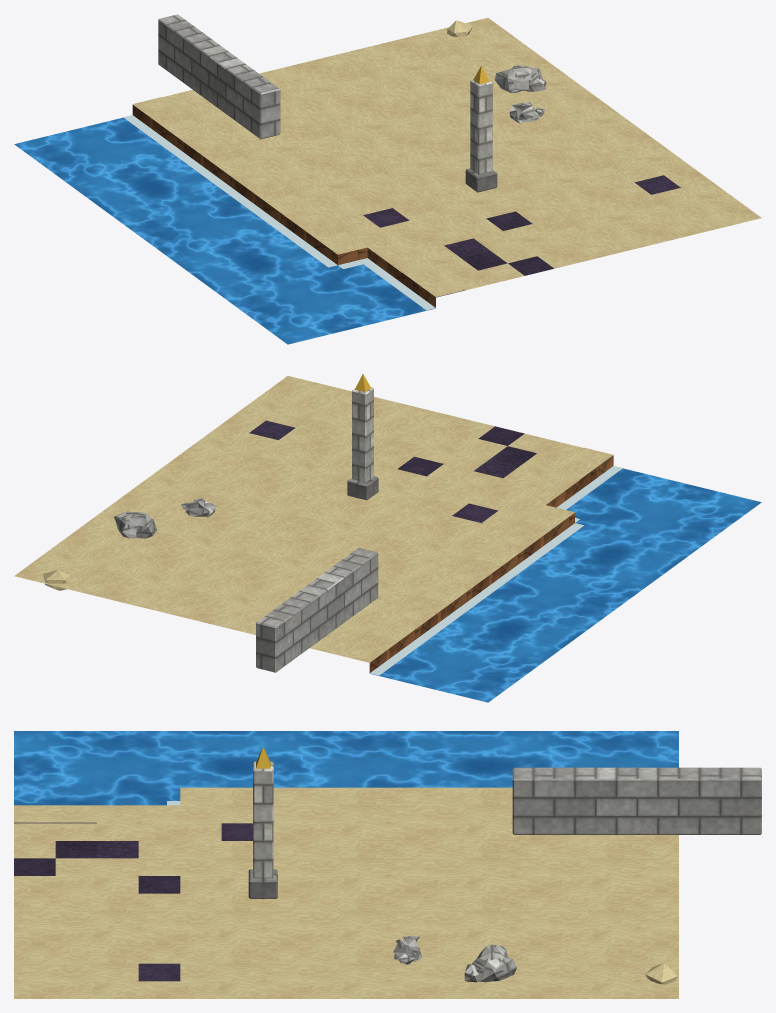
File: chunk_4_21.glb
3 renders of one model, top to bottom at view 1: azimuth 30°, elevation 25°; view 2: azimuth 150°, elevation 25°; view 3: azimuth 270°, elevation 25°, orthographic. The views are drawn at different scales.
Visible parts, largest first — view 1: chunk_4_21; view 2: chunk_4_21; view 3: chunk_4_21.
Part boxes in pixels (x1=…): chunk_4_21: x1=14, y1=14, x2=761, y2=344; chunk_4_21: x1=14, y1=374, x2=761, y2=702; chunk_4_21: x1=14, y1=731, x2=761, y2=998.
Size of the model in its own units: 16 by 4.37 by 18.
11 materials, 9 textured.
